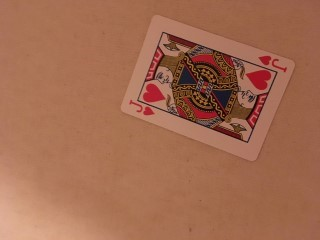JackOfHearts: (122, 15, 295, 162)
